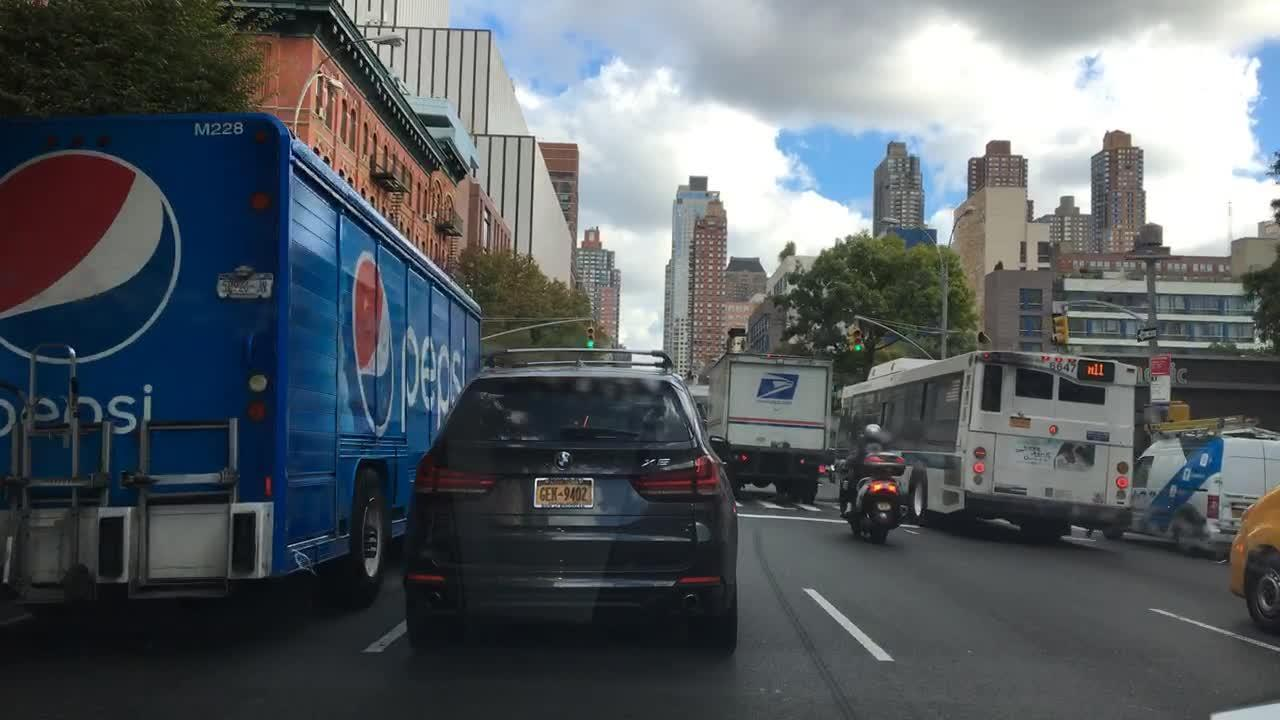bmw: (551, 445, 581, 476)
